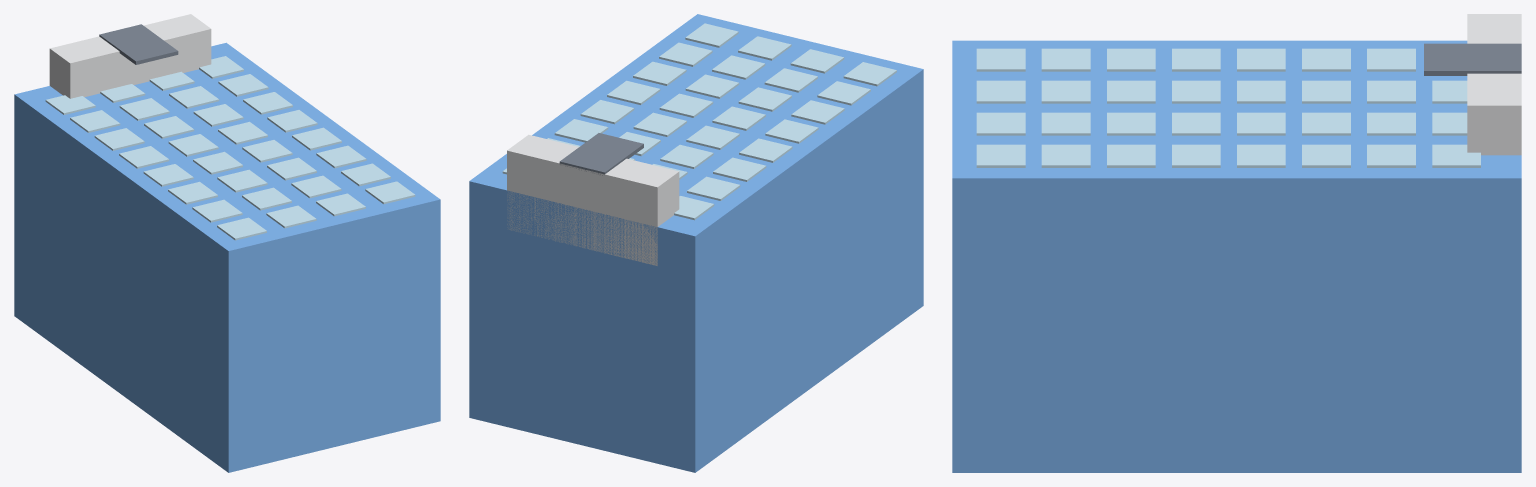
File: hq_building_exterior.glb
3 views of the same model, side by side, from view 1: azimuth 30°, elevation 25°; view 2: azimuth 150°, elevation 25°; view 3: azimuth 270°, elevation 25° (orthographic). The views are drawn at different scales.
Parts seen in each view (by area): view 1: tower_0, lobby_33, door_34, window_9, window_24, window_25, window_5, window_6, window_8, window_13, window_19, window_22 (+23 smaller); view 2: tower_0, lobby_33, door_34, window_14, window_28, window_30, window_5, window_19, window_22, window_23, window_31, window_13 (+16 smaller); view 3: tower_0, lobby_33, door_34, window_25, window_26, window_27, window_28, window_29, window_30, window_31, window_32, window_5 (+22 smaller).
Boxes of the visible parts, left/top/right/bottom form: tower_0: left=14, top=42, right=440, bottom=472; lobby_33: left=49, top=14, right=211, bottom=98; door_34: left=99, top=24, right=178, bottom=64; window_9: left=94, top=128, right=144, bottom=150; window_24: left=316, top=145, right=366, bottom=168; window_25: left=192, top=199, right=242, bottom=222; window_5: left=70, top=110, right=120, bottom=132; window_6: left=119, top=98, right=169, bottom=120; window_8: left=218, top=74, right=268, bottom=96; window_13: left=119, top=146, right=169, bottom=168; window_19: left=242, top=140, right=292, bottom=162; window_22: left=217, top=169, right=267, bottom=192; tower_0: left=469, top=14, right=923, bottom=472; lobby_33: left=507, top=134, right=679, bottom=265; door_34: left=559, top=133, right=643, bottom=175; window_14: left=686, top=125, right=739, bottom=149; window_28: left=659, top=42, right=712, bottom=66; window_30: left=790, top=49, right=844, bottom=73; window_5: left=687, top=176, right=740, bottom=200; window_19: left=659, top=93, right=713, bottom=117; window_22: left=738, top=87, right=791, bottom=111; window_23: left=685, top=74, right=739, bottom=98; window_31: left=738, top=36, right=791, bottom=60; window_13: left=739, top=138, right=792, bottom=162; tower_0: left=952, top=40, right=1521, bottom=472; lobby_33: left=1467, top=14, right=1521, bottom=155; door_34: left=1424, top=43, right=1521, bottom=75; window_25: left=1041, top=48, right=1090, bottom=71; window_26: left=1041, top=80, right=1090, bottom=103; window_27: left=1041, top=112, right=1090, bottom=135; window_28: left=1041, top=144, right=1090, bottom=167; window_29: left=976, top=48, right=1025, bottom=71; window_30: left=976, top=80, right=1025, bottom=103; window_31: left=976, top=112, right=1025, bottom=135; window_32: left=976, top=144, right=1025, bottom=167; window_5: left=1367, top=48, right=1415, bottom=71.
Size of the model in its own units: 6 by 7.06 by 10.5.
